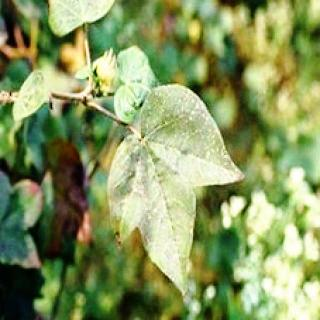grey mildew: (108, 93, 246, 295)
